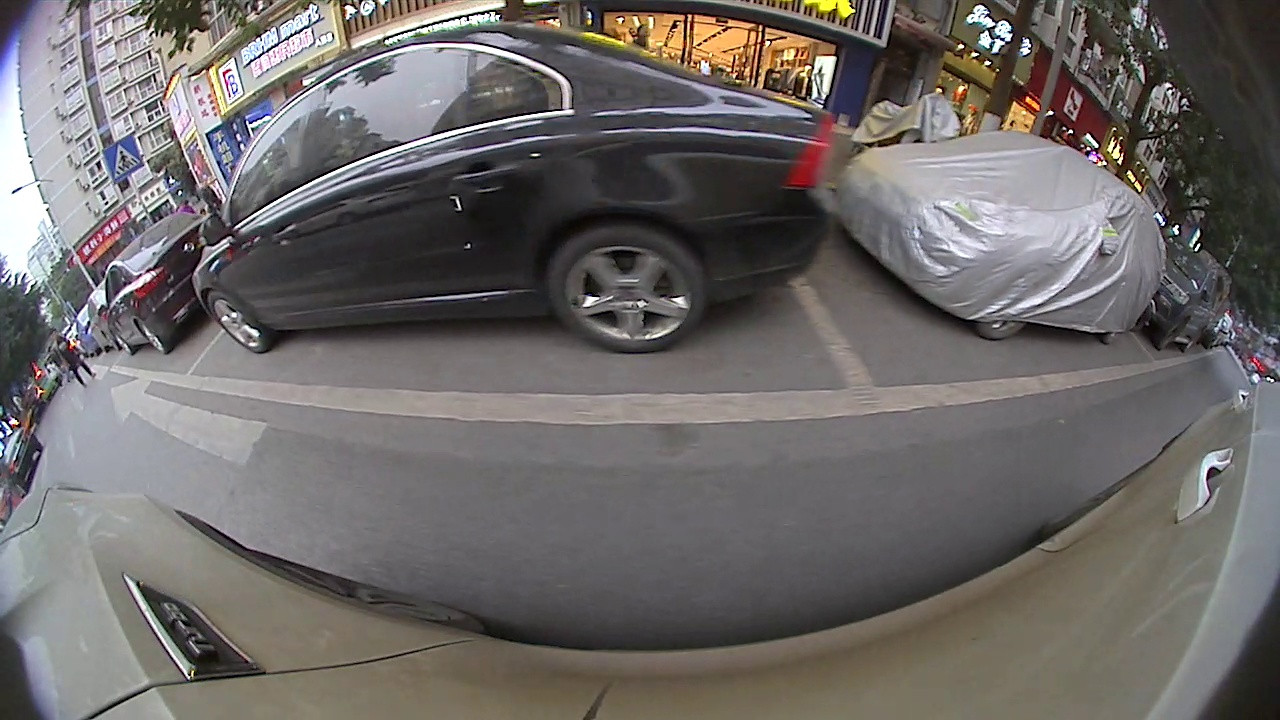car: (109, 96, 523, 361), (889, 150, 1149, 377), (46, 226, 133, 345)
front: (245, 263, 349, 358), (1099, 336, 1139, 375)
person: (845, 43, 897, 197), (520, 15, 545, 110)
rear: (1021, 320, 1091, 379), (124, 297, 169, 349)
